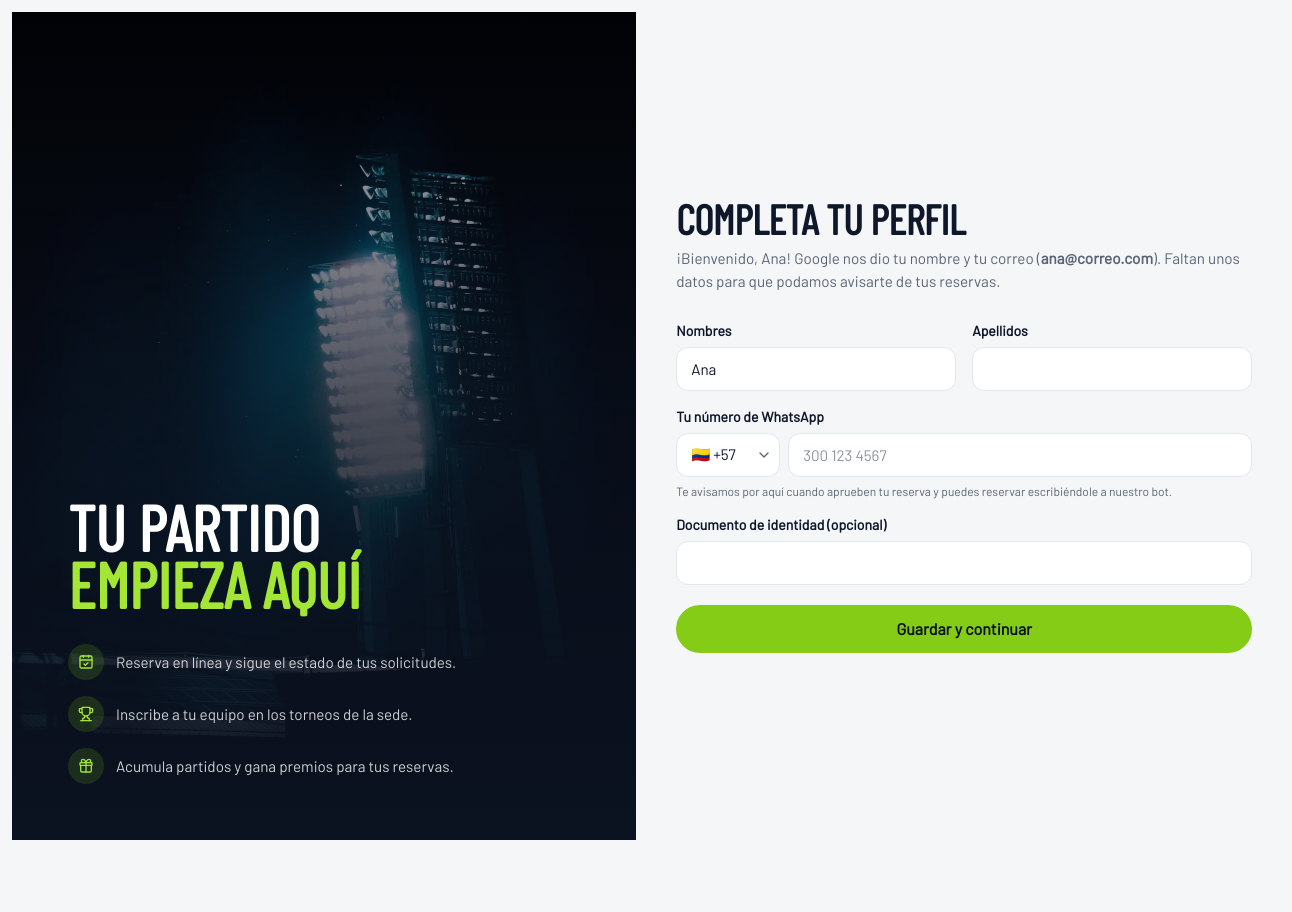
PaginaCompletarPerfil › guarda los datos y devuelve a donde la persona iba
Type "Pérez Gómez" into the field labelled "Apellidos".
click(1112, 368); type("Pérez Gómez")  # box [972,346,1252,390]
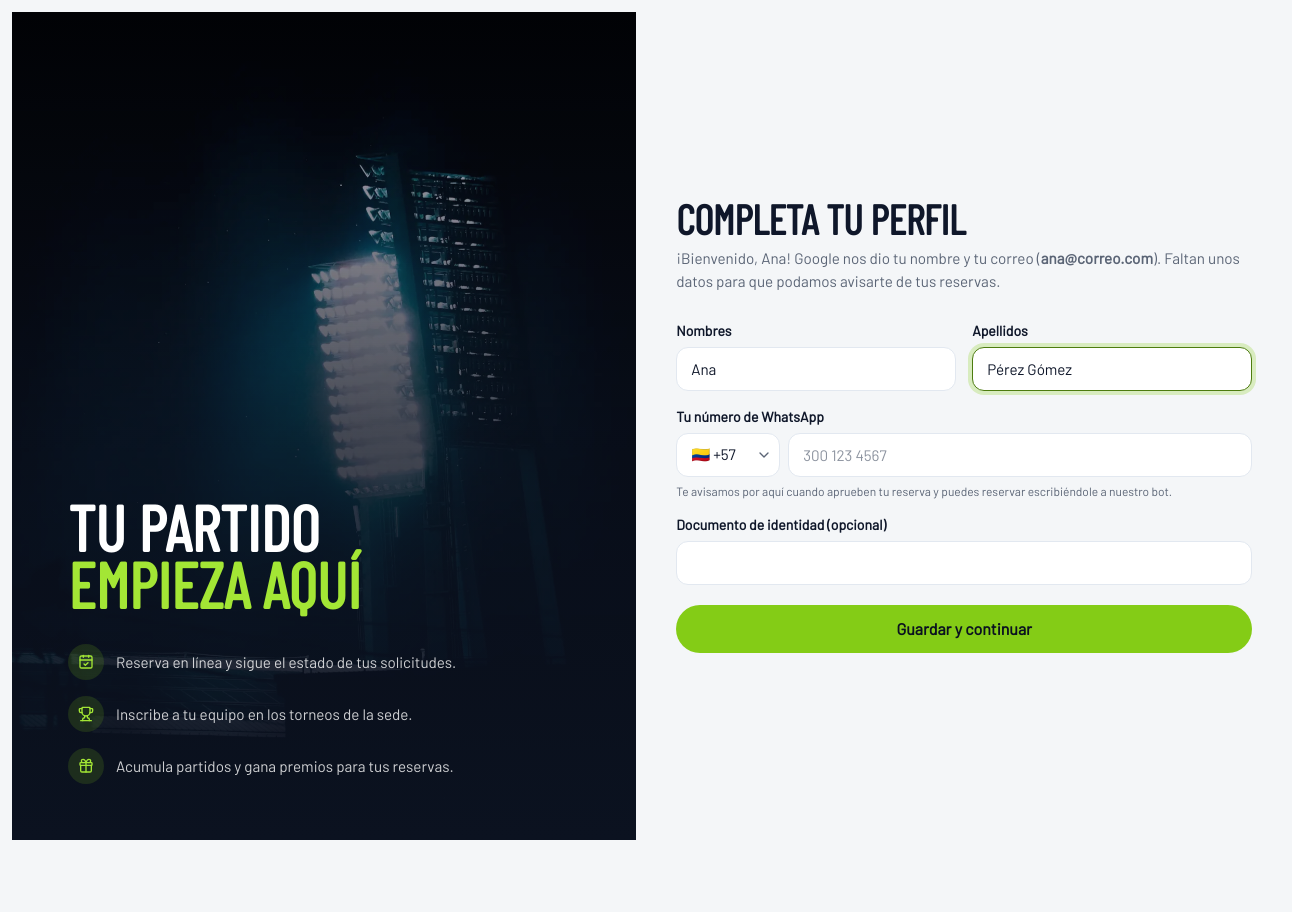
Type "3001234567" into the field labelled "Tu número de WhatsApp".
click(1020, 454); type("3001234567")  # box [788,432,1252,476]
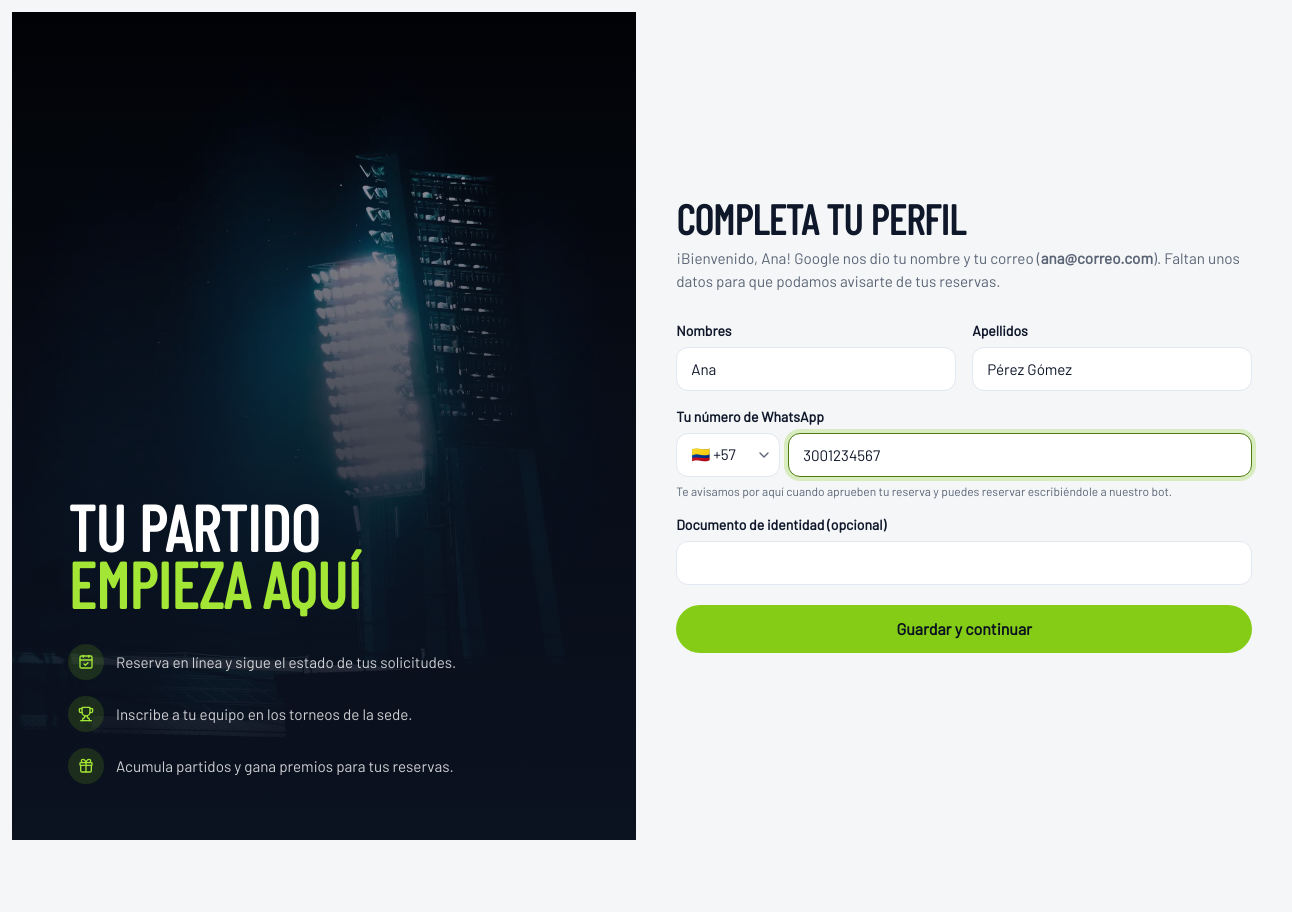
Click the button "Guardar y continuar".
click(964, 628)  # box [676,604,1252,652]
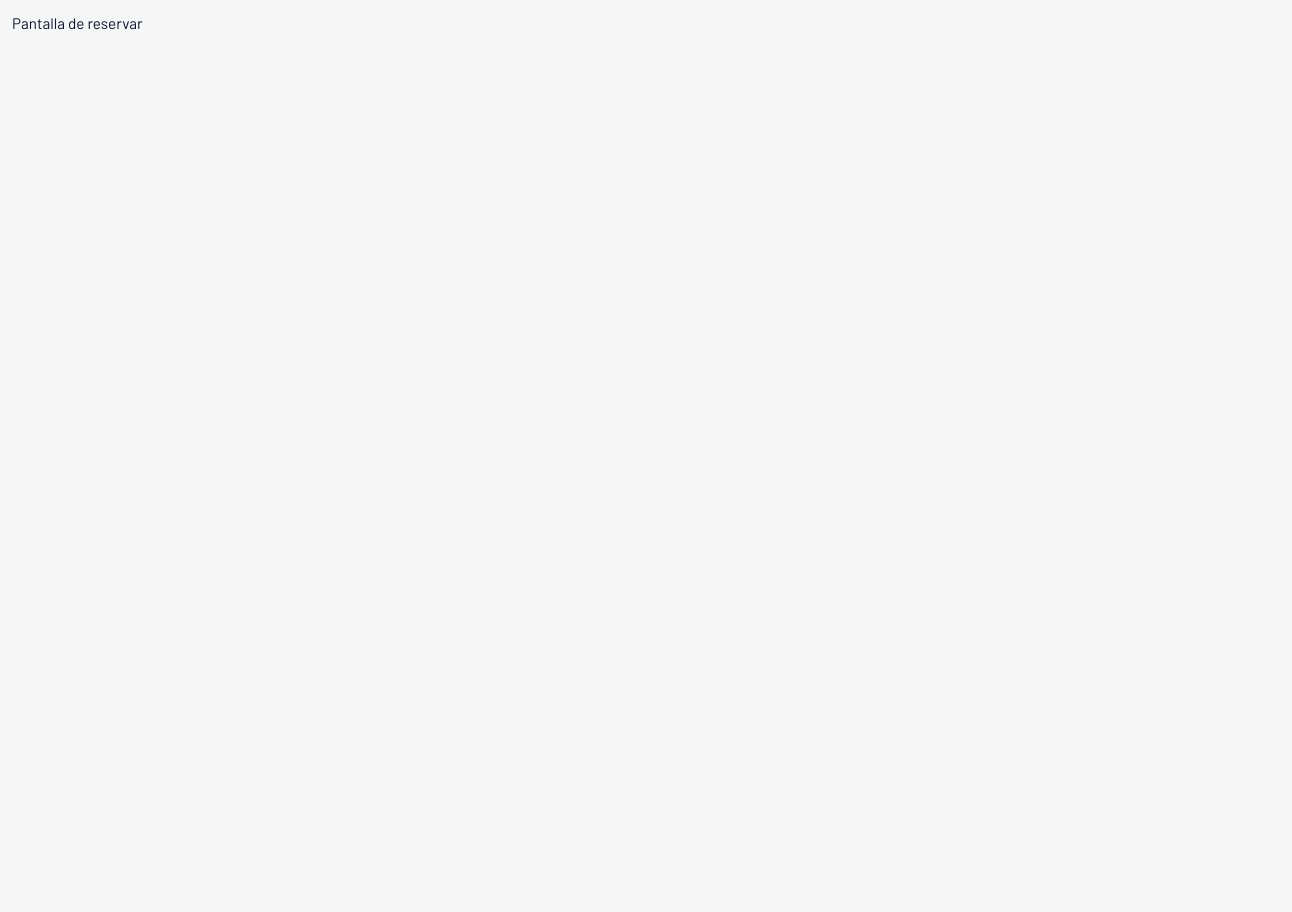
Expected: the text "Pantalla de reservar" is shown, [12,14,142,32]
